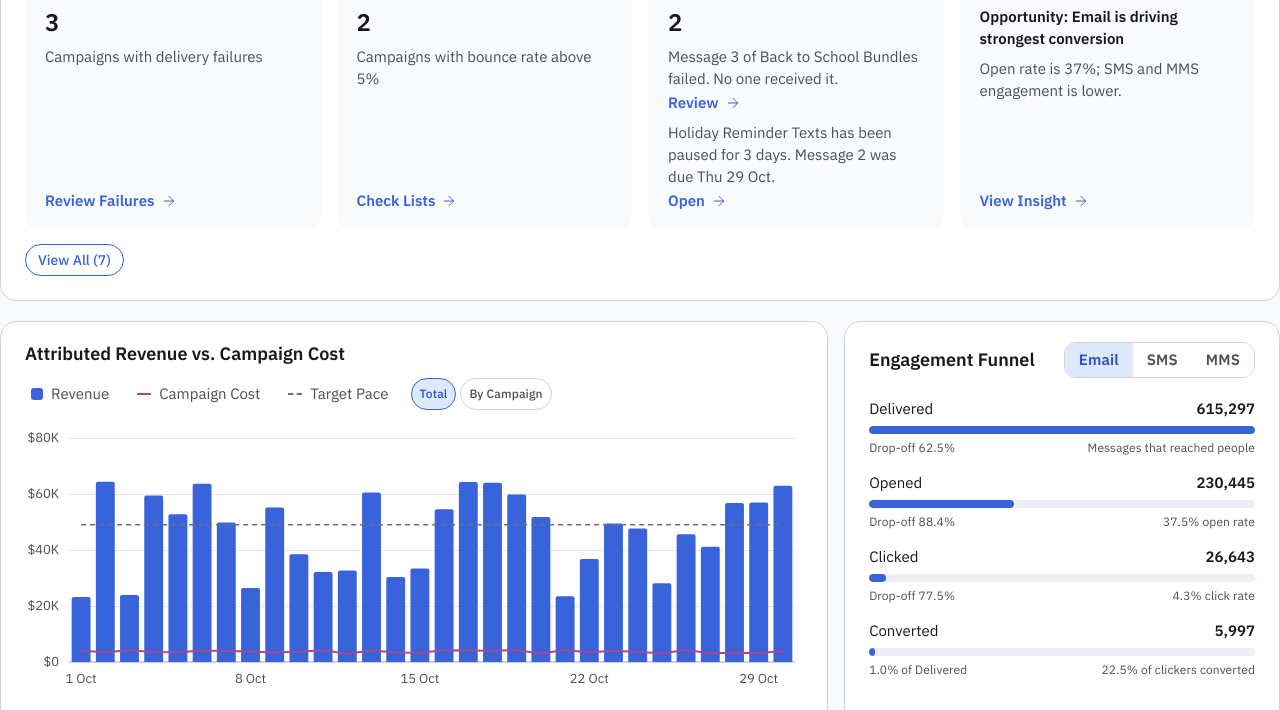
SMS: Opened is Not Tracked with no bar and no drop-off; the drop-off from Delivered runs to Clicked
(page scrolled)
Step 1. Click the radio button labelled "SMS" → click(1162, 360), box [1133, 343, 1192, 377]
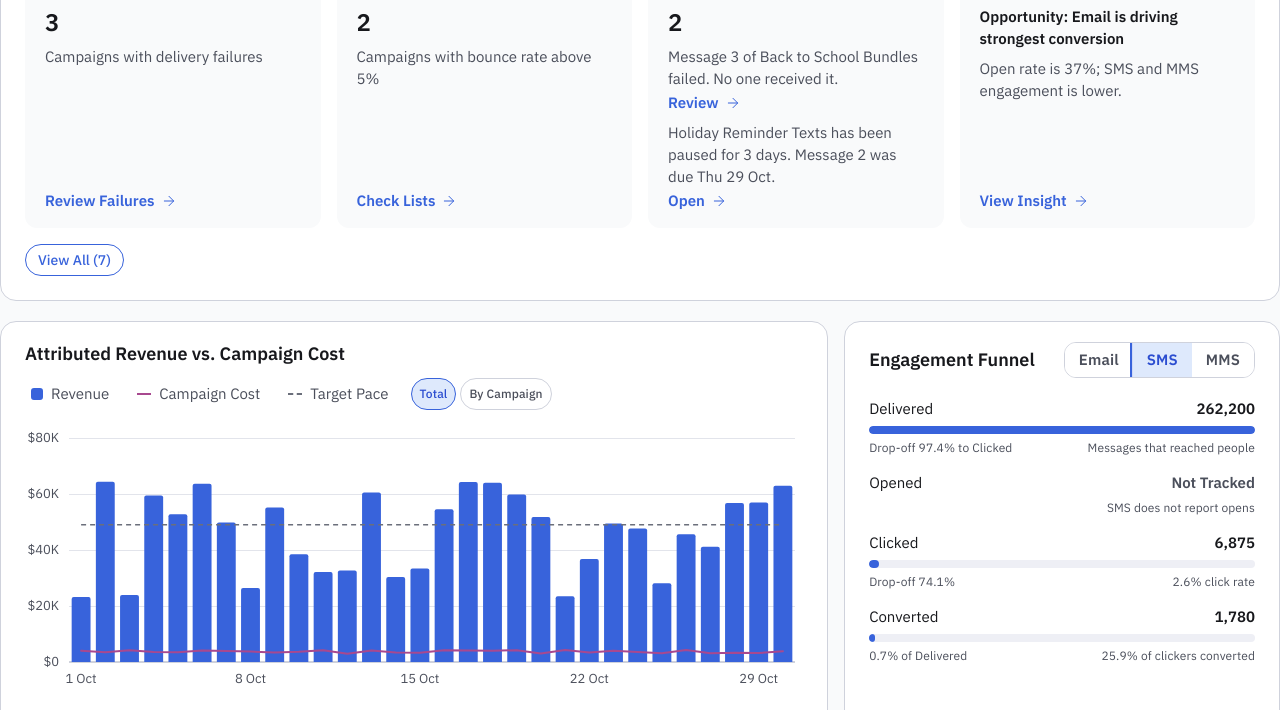
expect the text "Drop-off 97.4% to Clicked" is shown: met, box [869, 440, 1012, 456]
